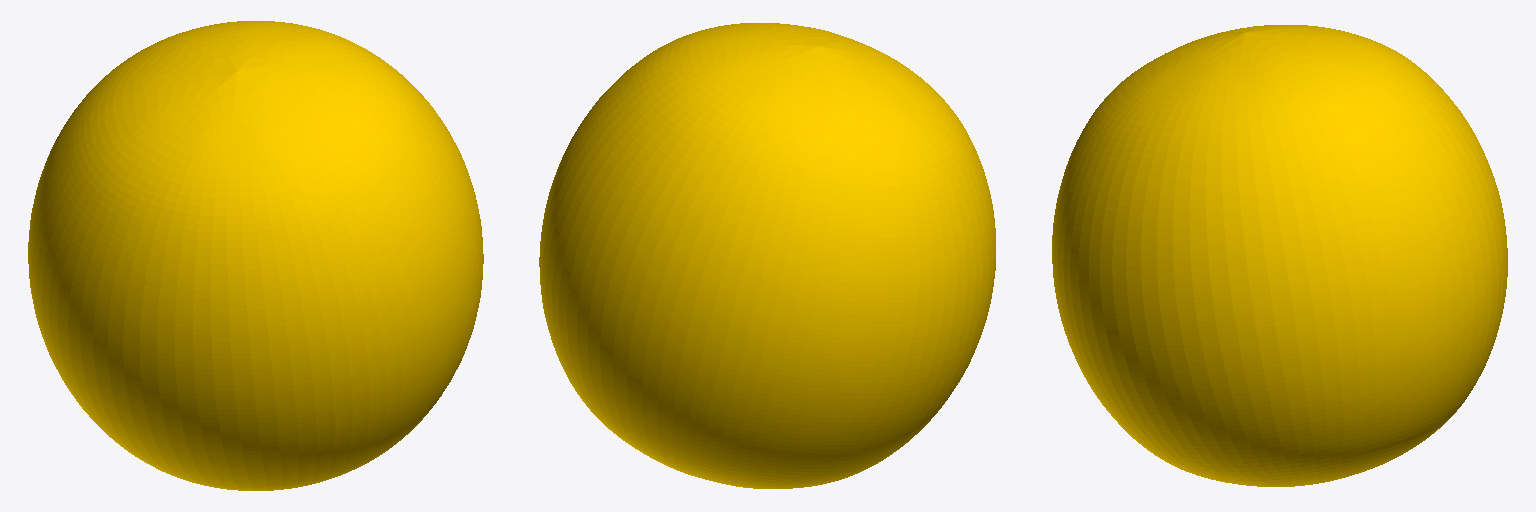
File: marble_2.obj
3 renders of one model, left to right at view 1: azimuth 30°, elevation 25°; view 2: azimuth 150°, elevation 25°; view 3: azimuth 270°, elevation 25°, orthographic.
Parts seen in each view (by area): view 1: s.0020; view 2: s.0020; view 3: s.0020.
Part boxes in pixels (bbox=[...]): s.0020: bbox=[28, 21, 483, 490]; s.0020: bbox=[539, 23, 995, 488]; s.0020: bbox=[1052, 25, 1507, 486].
Bounding box in the file's own units: 94468 × 95570 × 94362.